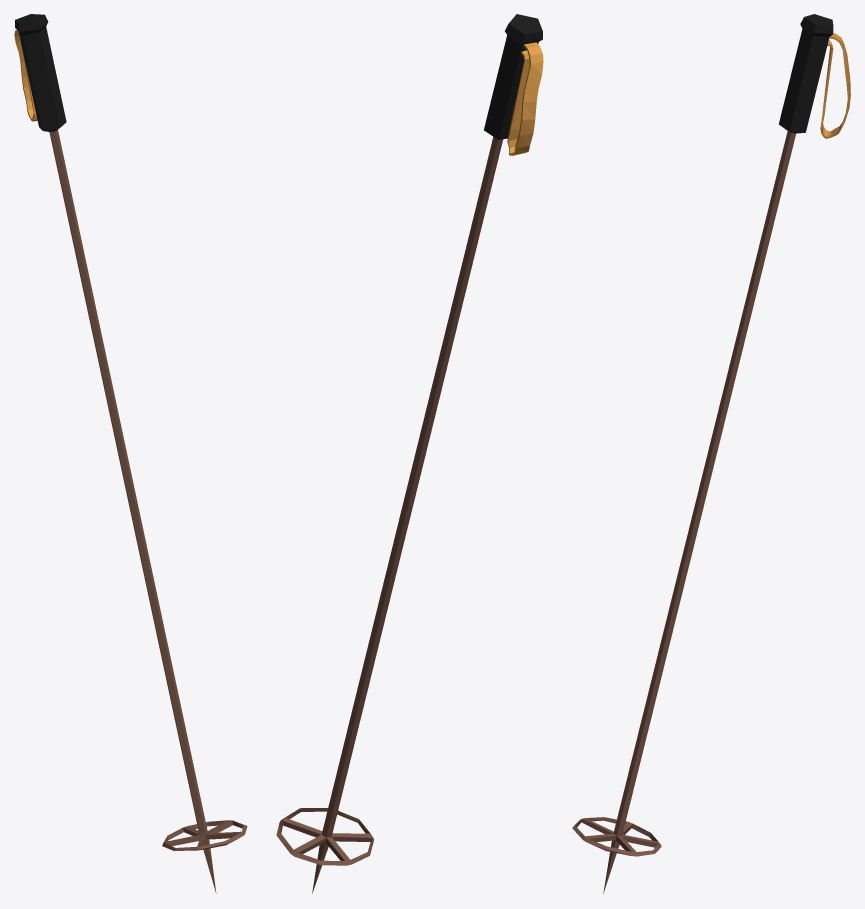
File: skiStick.fbx
3 renders of one model, left to right at view 1: azimuth 30°, elevation 25°; view 2: azimuth 210°, elevation 25°; view 3: azimuth 270°, elevation 25°, orthographic. The views are drawn at different scales.
Parts seen in each view (by area): view 1: group1189042932; view 2: group1189042932; view 3: group1189042932.
Boxes of the visible parts, x1,y1,x2,y2 form: group1189042932: [14, 14, 247, 893]; group1189042932: [276, 14, 543, 893]; group1189042932: [572, 14, 850, 893].
Size of the model in its own units: 68.91 by 424 by 128.
